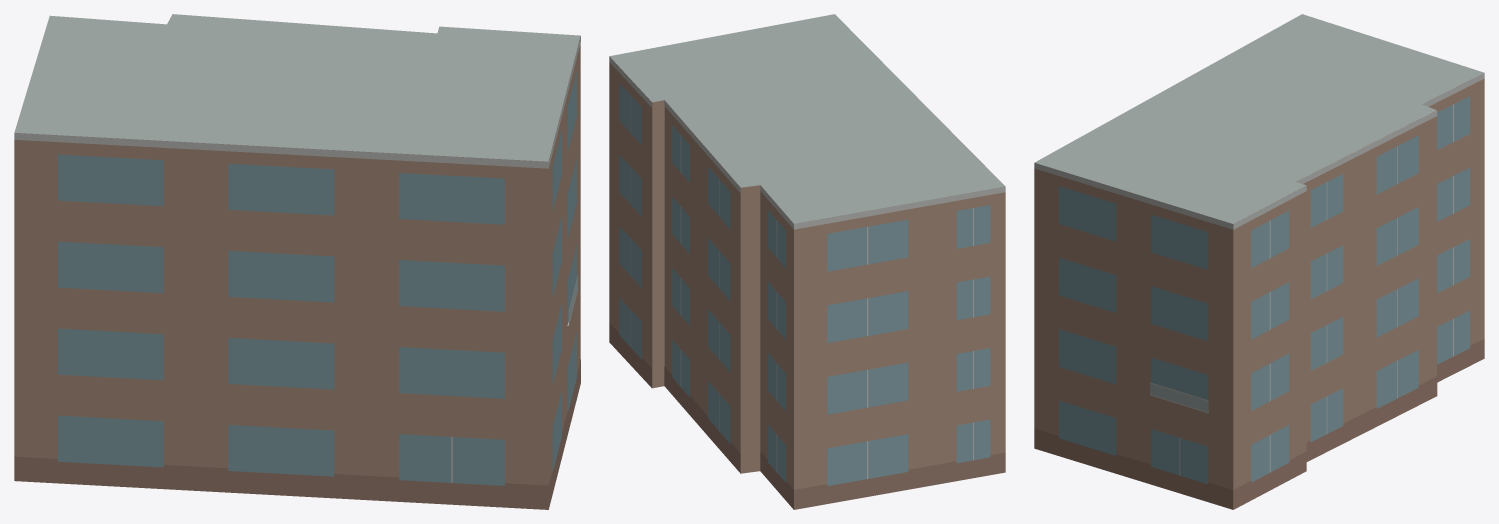
File: survey-upis-32697558.glb
The picture shows the model from 3 angles, left to right: view 1: azimuth 30°, elevation 25°; view 2: azimuth 150°, elevation 25°; view 3: azimuth 270°, elevation 25°; orthographic projection. The views are drawn at different scales.
Parts seen in each view (by area): view 1: survey-upis-32697558.tmp; view 2: survey-upis-32697558.tmp; view 3: survey-upis-32697558.tmp.
Boxes of the visible parts, x1,y1,x2,y2 form: survey-upis-32697558.tmp: (14, 14, 580, 509); survey-upis-32697558.tmp: (609, 14, 1005, 509); survey-upis-32697558.tmp: (1034, 14, 1484, 509).
Size of the model in its own units: 19.24 by 12.2 by 17.43.
